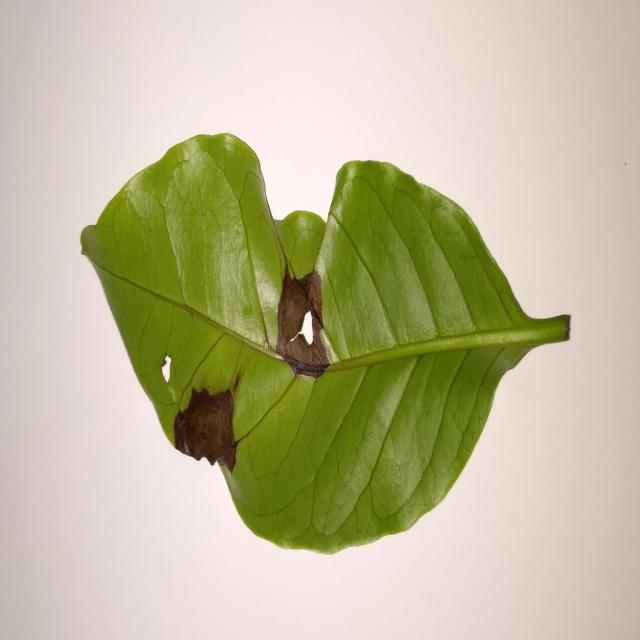Enfermedad-Antracnosis: (79, 133, 572, 554)
